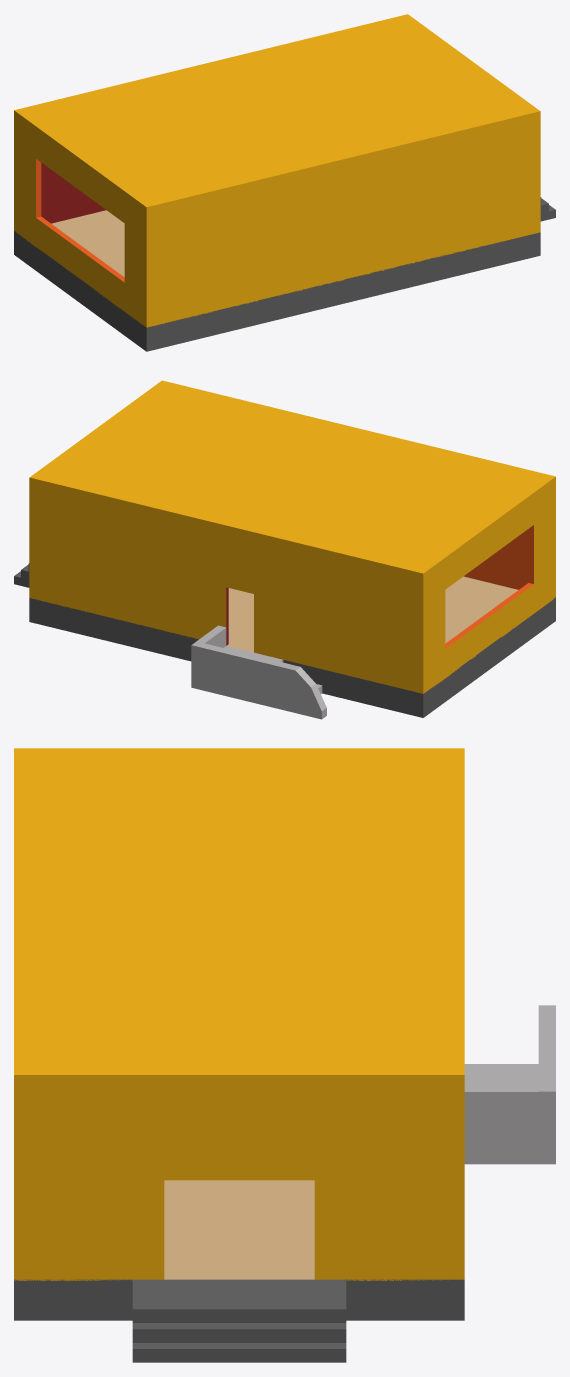
The model's file is Restaurante 1.fbx.
3 renders of one model, top to bottom at view 1: azimuth 30°, elevation 25°; view 2: azimuth 150°, elevation 25°; view 3: azimuth 270°, elevation 25°, orthographic. The views are drawn at different scales.
Parts seen in each view (by area): view 1: Cube.007; view 2: Cube.007; view 3: Cube.007.
Boxes of the visible parts, left/top/right/bottom form: Cube.007: left=14, top=14, right=555, bottom=351; Cube.007: left=14, top=380, right=555, bottom=719; Cube.007: left=14, top=748, right=555, bottom=1362.
Bounding box in the file's own units: 777 × 242 × 483.
